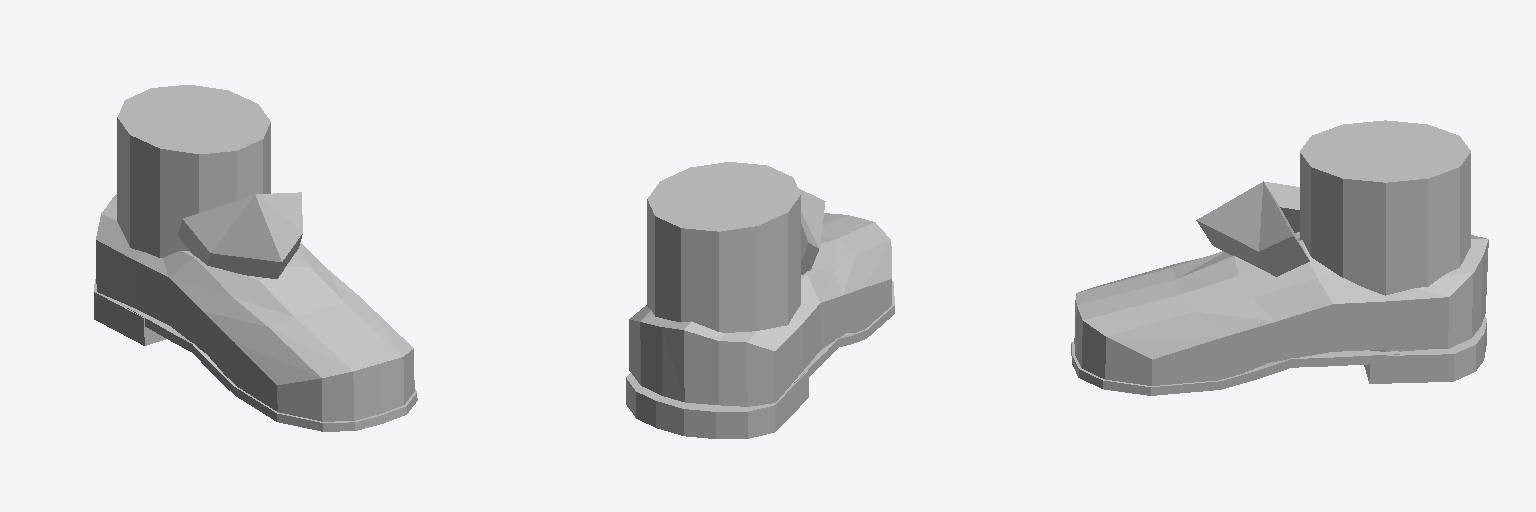
The model's file is Foot_L.obj.
3 views of the same model, side by side, from view 1: azimuth 30°, elevation 25°; view 2: azimuth 150°, elevation 25°; view 3: azimuth 270°, elevation 25° (orthographic).
Visible parts, largest first — view 1: Foot_L pCube53, Foot_L pCylinder67, Foot_L pCube57, Foot_L pCube52, pCube51 Foot_L; view 2: Foot_L pCylinder67, Foot_L pCube53, pCube51 Foot_L, Foot_L pCube57, Foot_L pCube52; view 3: Foot_L pCube53, Foot_L pCylinder67, Foot_L pCube57, pCube51 Foot_L, Foot_L pCube52.
Part boxes in pixels (x1,y1,x2,y2): Foot_L pCube53: (96,194,414,421); Foot_L pCylinder67: (117,85,270,257); Foot_L pCube57: (178,192,302,278); Foot_L pCube52: (127,307,417,431); pCube51 Foot_L: (94,279,165,345); Foot_L pCylinder67: (647,162,800,332); Foot_L pCube53: (629,213,891,406); pCube51 Foot_L: (626,370,808,438); Foot_L pCube57: (798,188,825,274); Foot_L pCube52: (794,281,894,382); Foot_L pCube53: (1074,232,1488,385); Foot_L pCylinder67: (1300,120,1470,351); Foot_L pCube57: (1196,181,1309,276); pCube51 Foot_L: (1364,317,1486,383); Foot_L pCube52: (1071,341,1399,395).
Bounding box in the file's own units: 1.01 × 1.14 × 2.15.